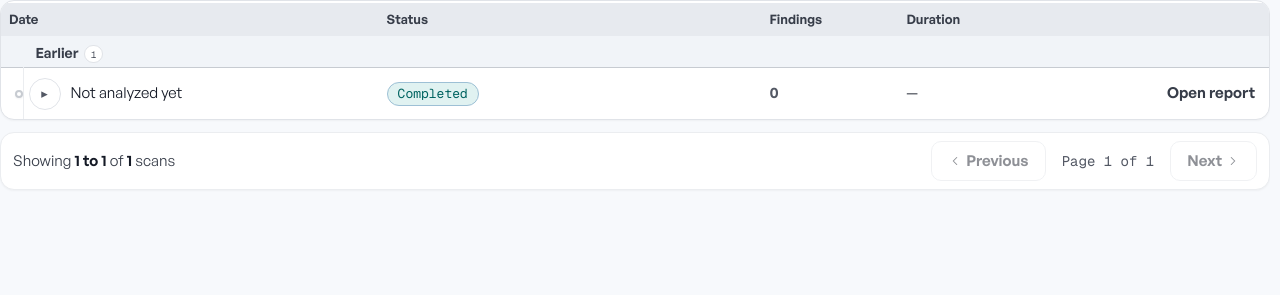
it: HistoryTable expandable rows › omits the warning block and analyzer list when a scan has neither
This screenshot has width=1280, height=295.
Click the button with class "history-disclose": (45,94) [29, 78, 61, 110]
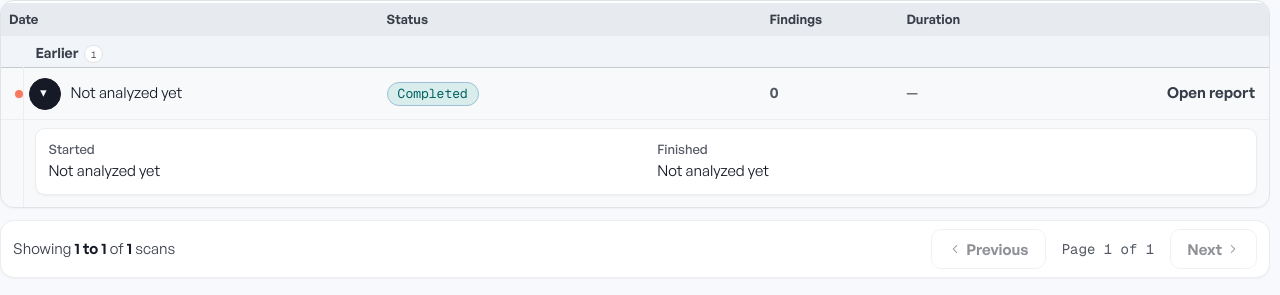
Result: the element with class "history-detail" shows "Started" at [48, 141, 95, 157]
